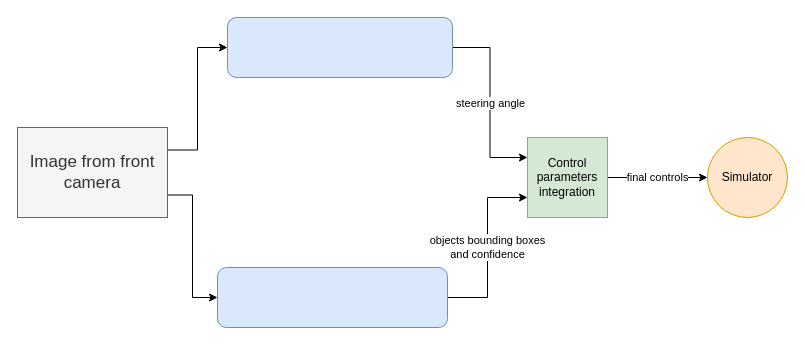
Image size: 805x345. Some labels were removed from this diagram. The shapes that lost their labels are listed below. From the top down, each one's centre as x and y in pixels, then its label:
the point at 339,47: Resnet50 predict steering angle
the point at 332,297: YOLOv8 traffic light and vehicle detection
